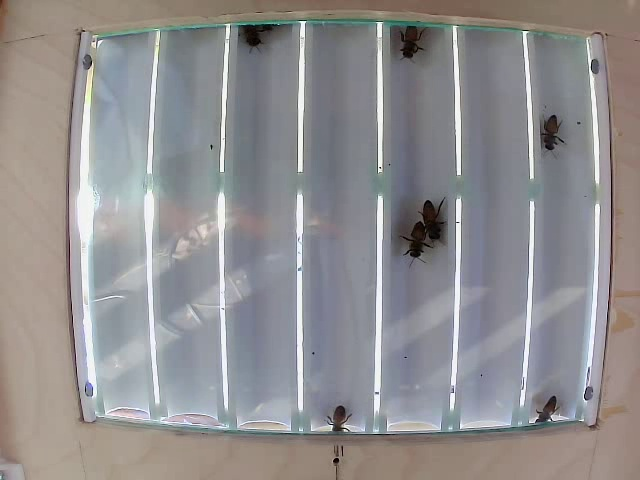bee: (395, 20, 435, 66), (408, 196, 441, 248), (529, 111, 562, 158), (398, 215, 424, 267), (316, 409, 360, 438), (539, 396, 563, 430)
